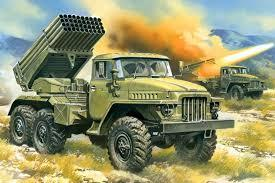MIL_SAM_TEL: (13, 12, 223, 165), (179, 54, 271, 98)
